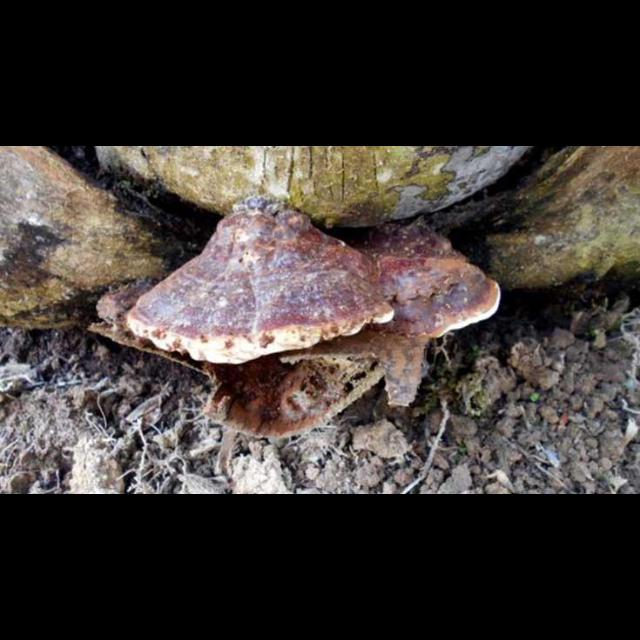ganoderma: (129, 202, 398, 368), (355, 222, 504, 342)
